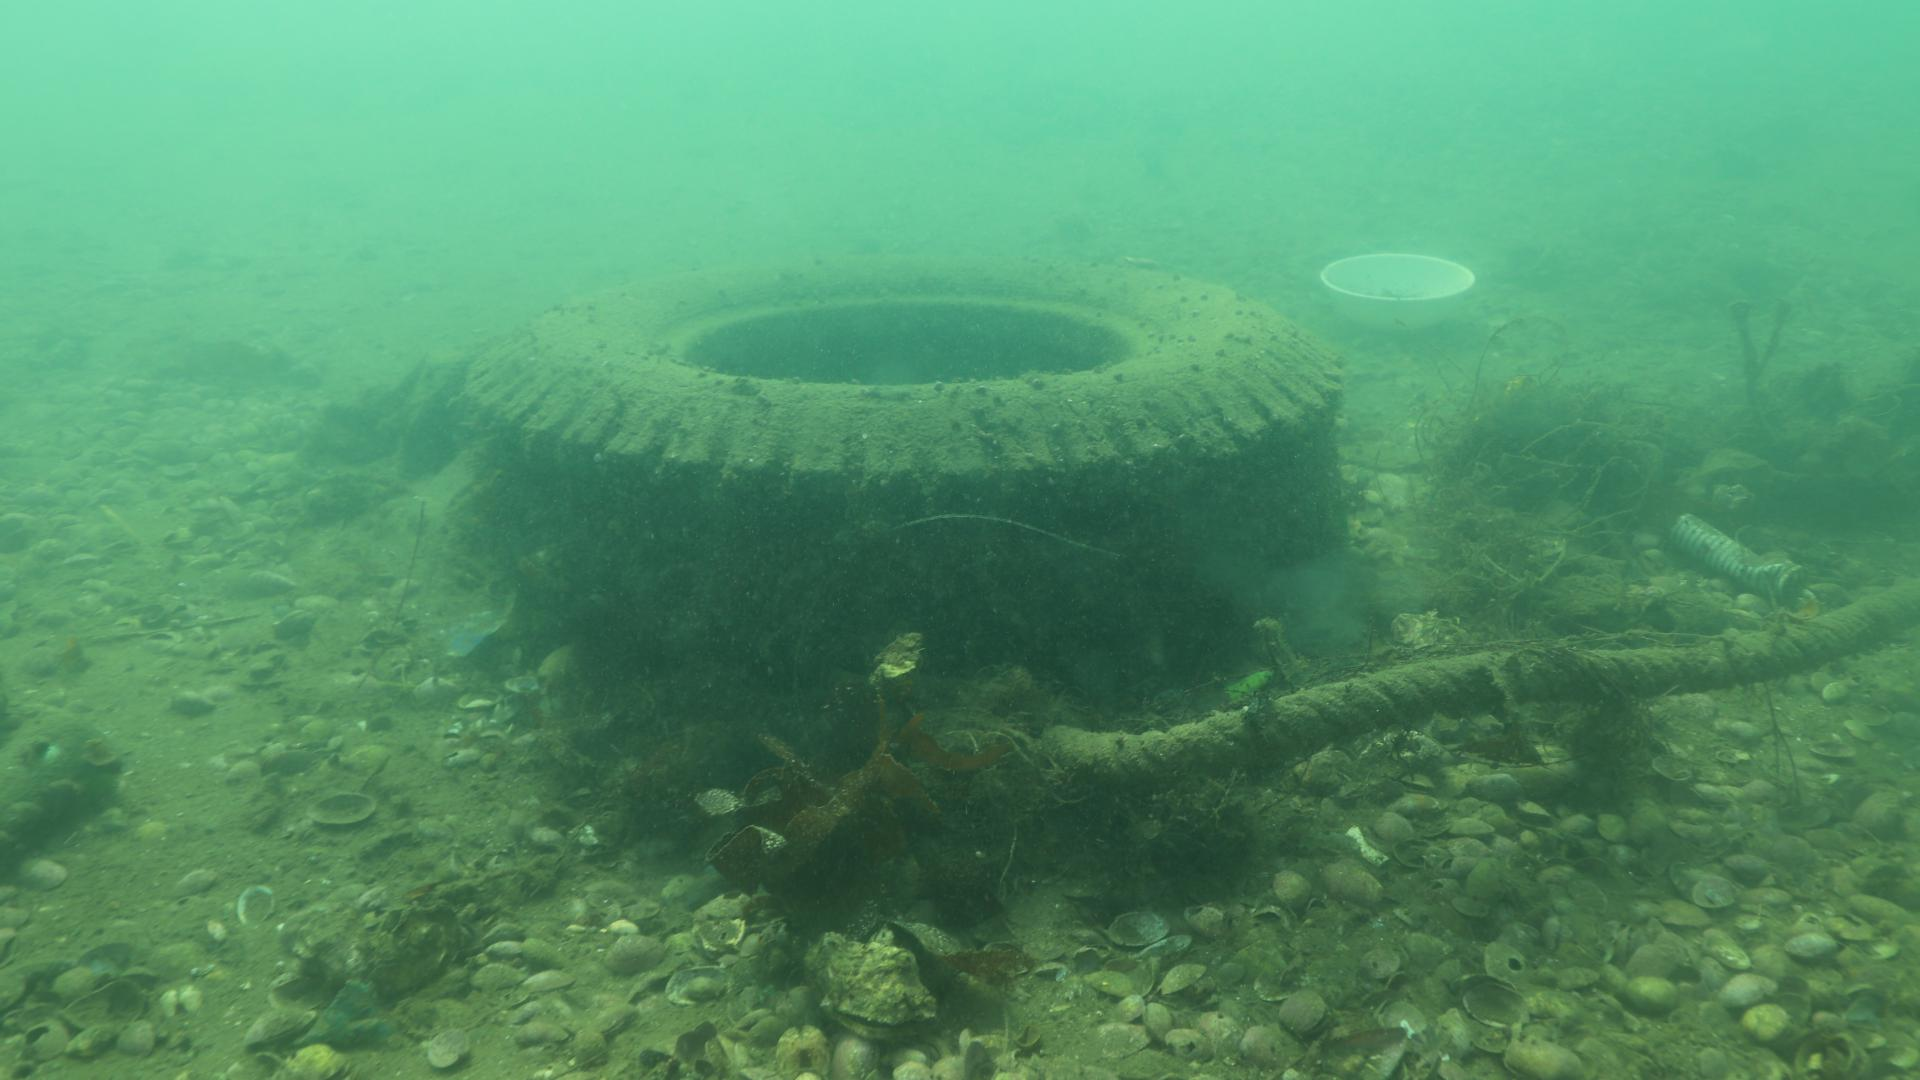rope: (1038, 572, 1920, 786)
tire: (458, 247, 1348, 682)
